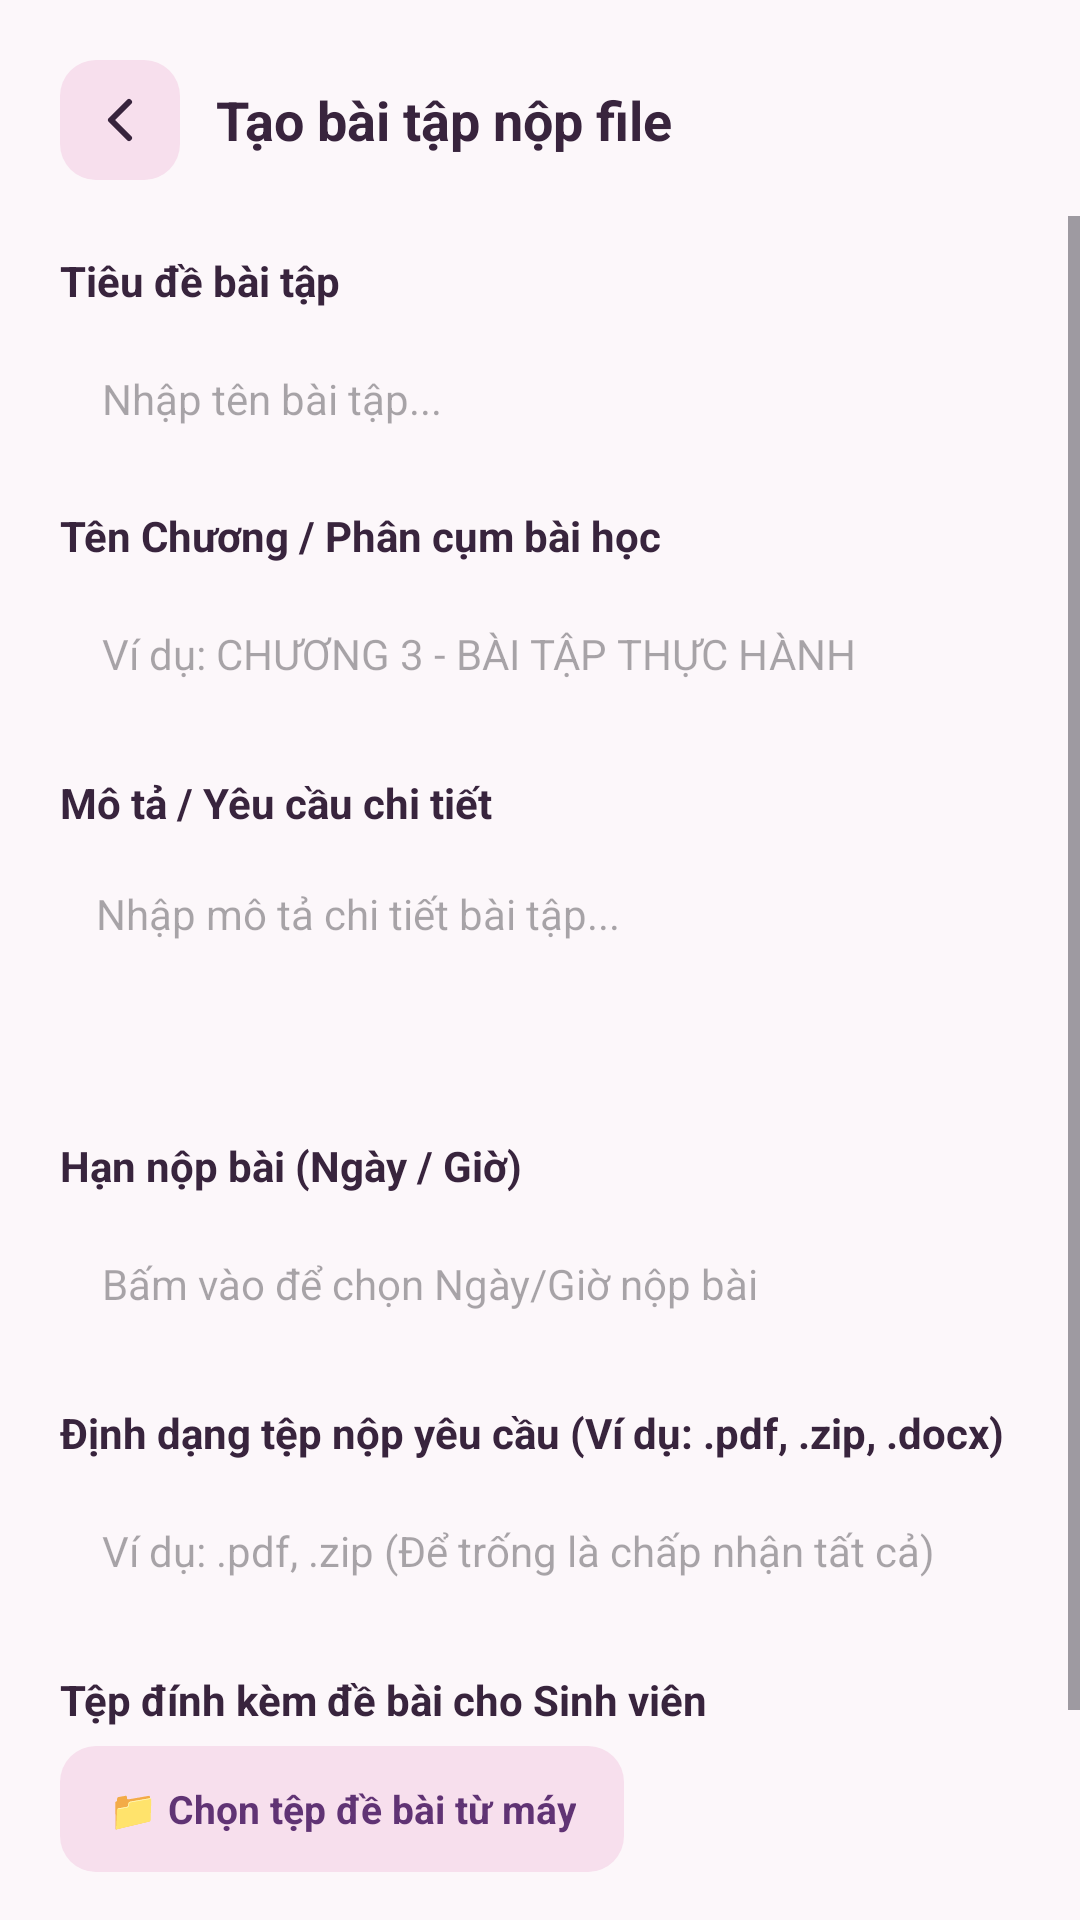

Where icons sit on this 1080 × 1920 app screen, as (x1, y1, x2, y2):
Quay lại: (60, 60, 180, 180)
